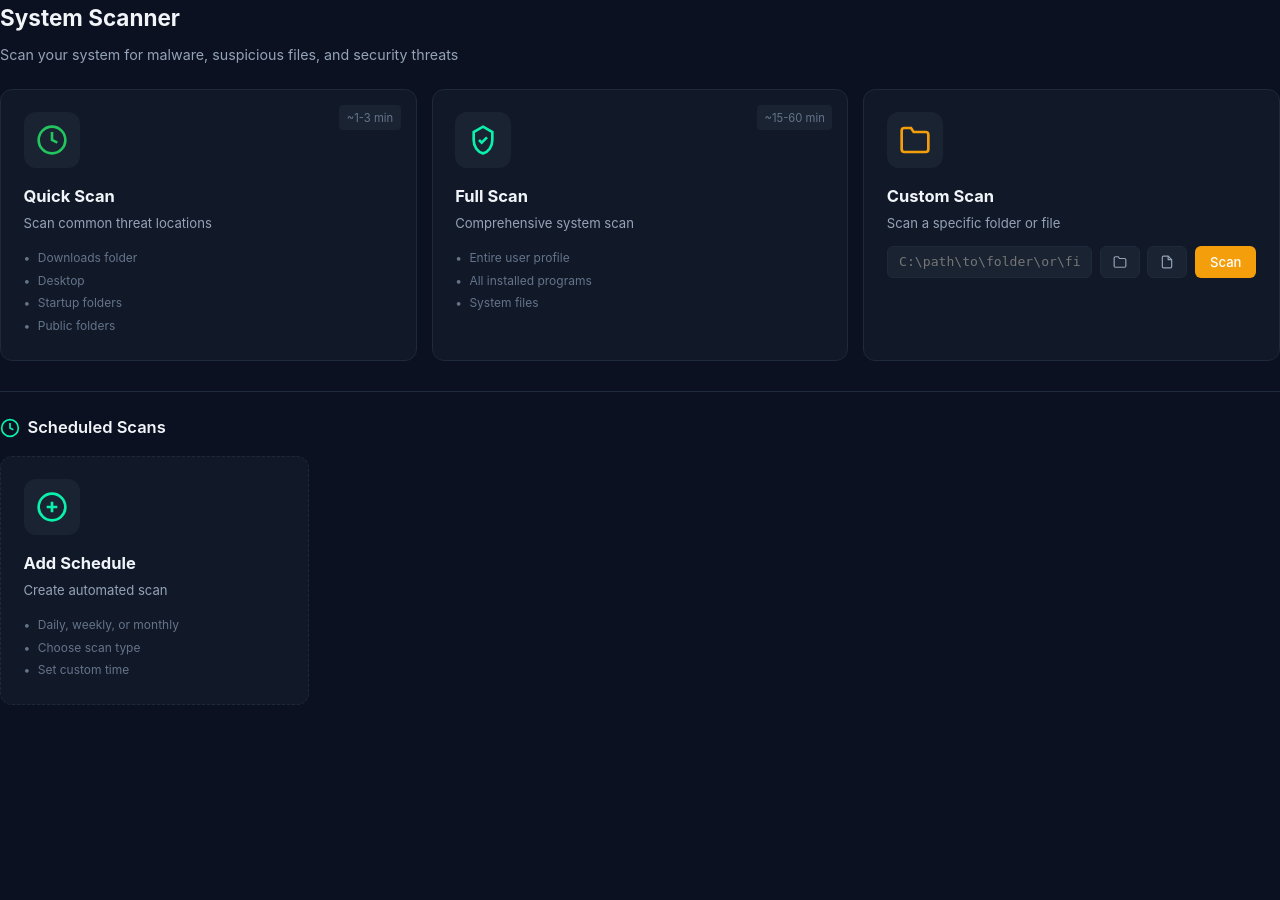
Test case: Scanner › hydrates malware details after custom scan completion
In the field with placeholder "C:\\path\\to\\folder\\or\\file": [990, 262] box [887, 246, 1092, 278], type "C:\\samples\\eicar.com.txt"
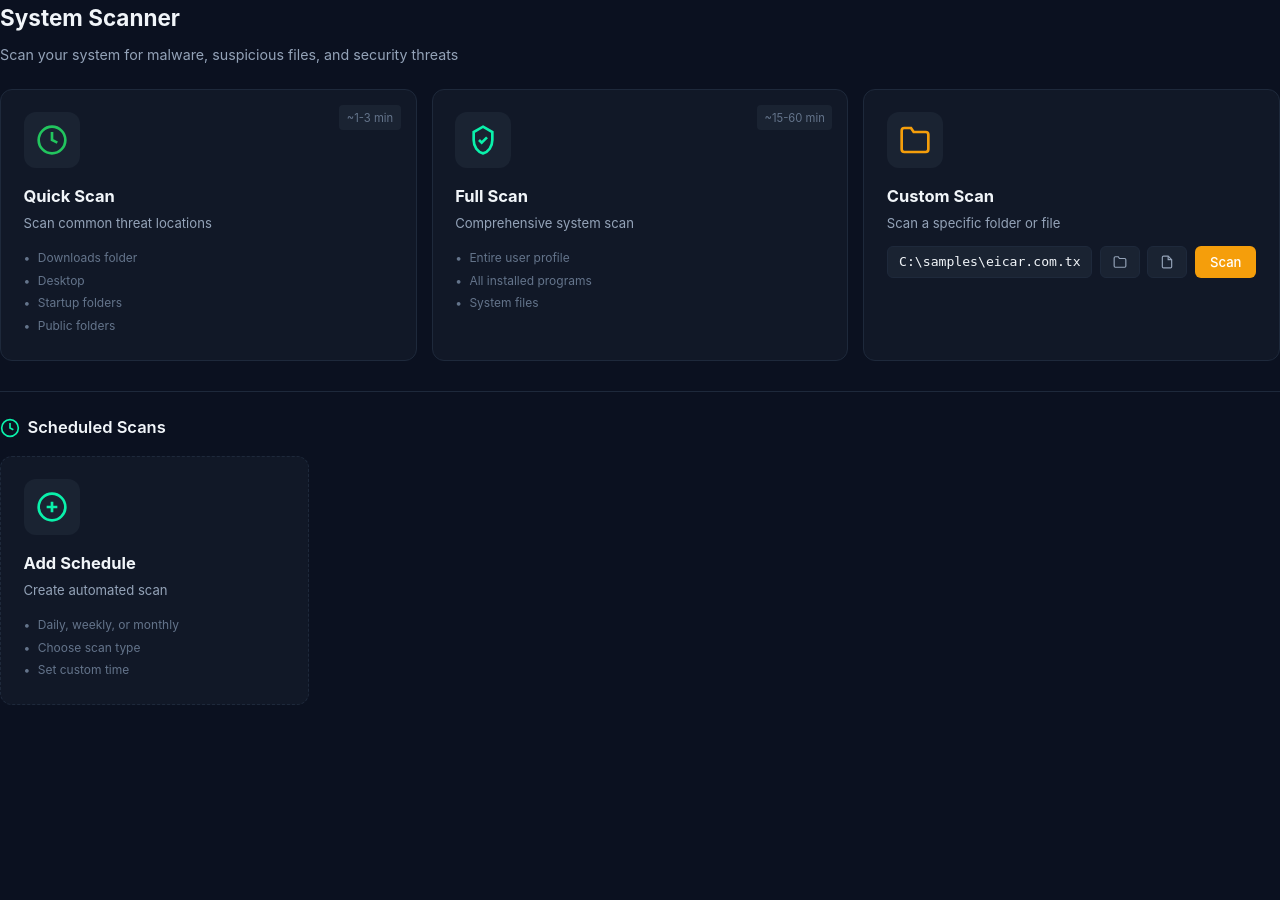
Click the button "Scan": [1226, 262] box [1195, 246, 1256, 278]
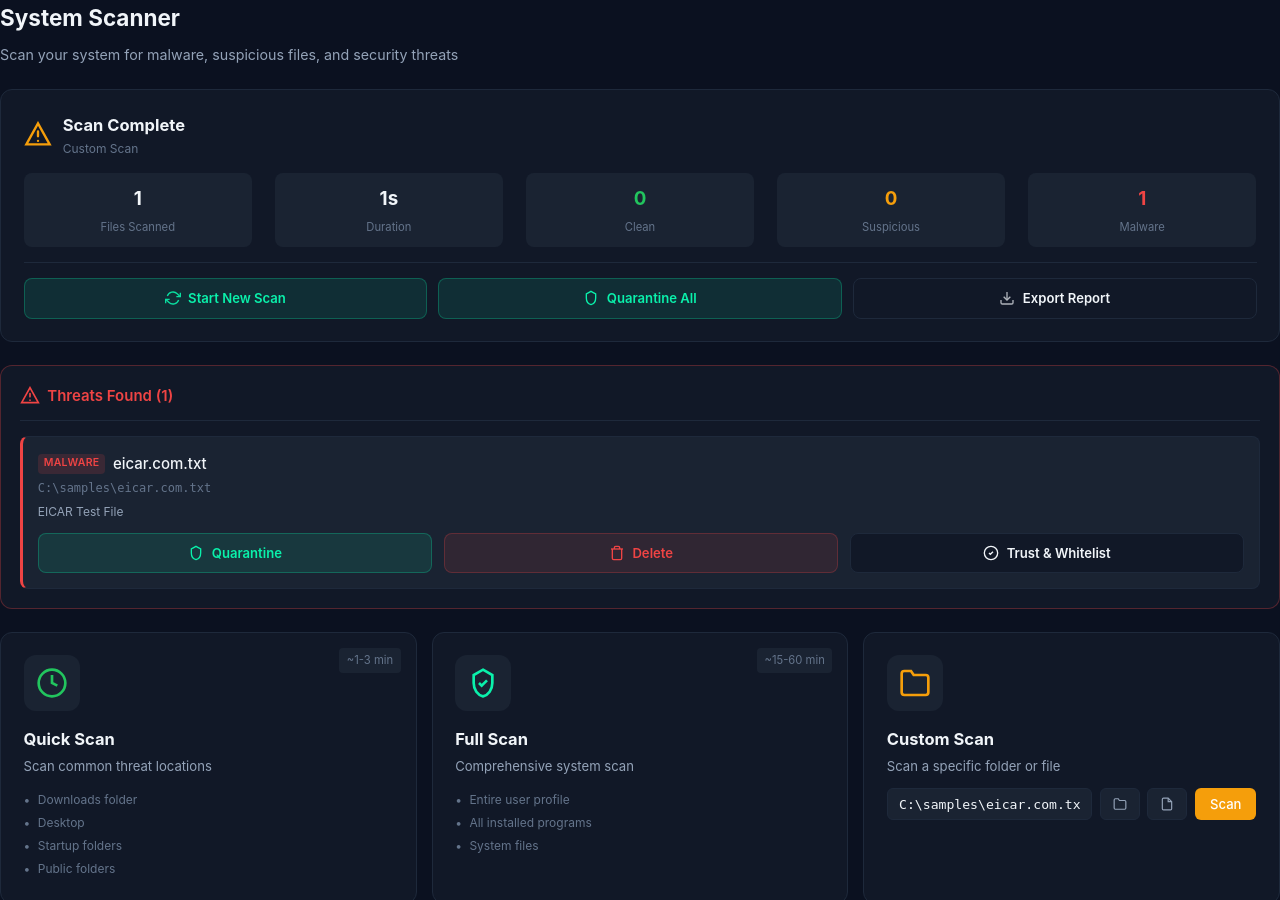
Expected: the text "EICAR Test File" is shown, [38, 504, 124, 519]
Expected: the text "eicar.com.txt" is shown, [113, 452, 207, 476]
Expected: the heading "Threats Found (1)" is shown, [20, 384, 173, 408]
